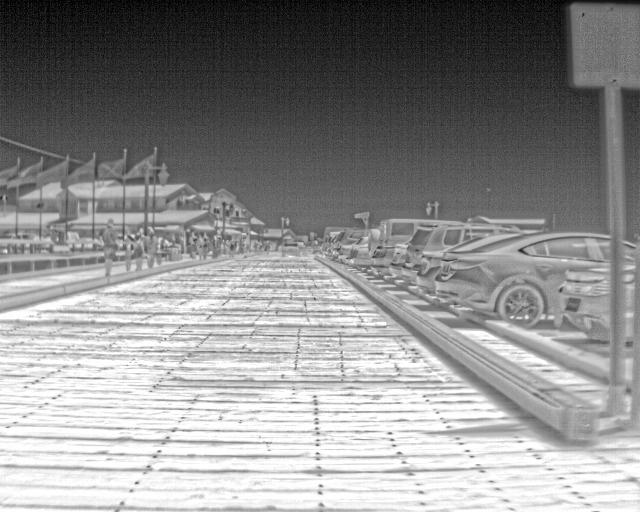bicycle: (437, 229, 608, 328), (367, 217, 489, 279), (418, 230, 524, 295), (403, 228, 491, 277), (558, 266, 609, 344), (624, 259, 639, 345), (334, 227, 364, 259), (387, 245, 409, 280), (351, 233, 371, 271), (280, 240, 302, 259)
empty: (100, 217, 119, 278), (144, 226, 160, 266), (132, 232, 146, 270), (121, 242, 134, 270)
